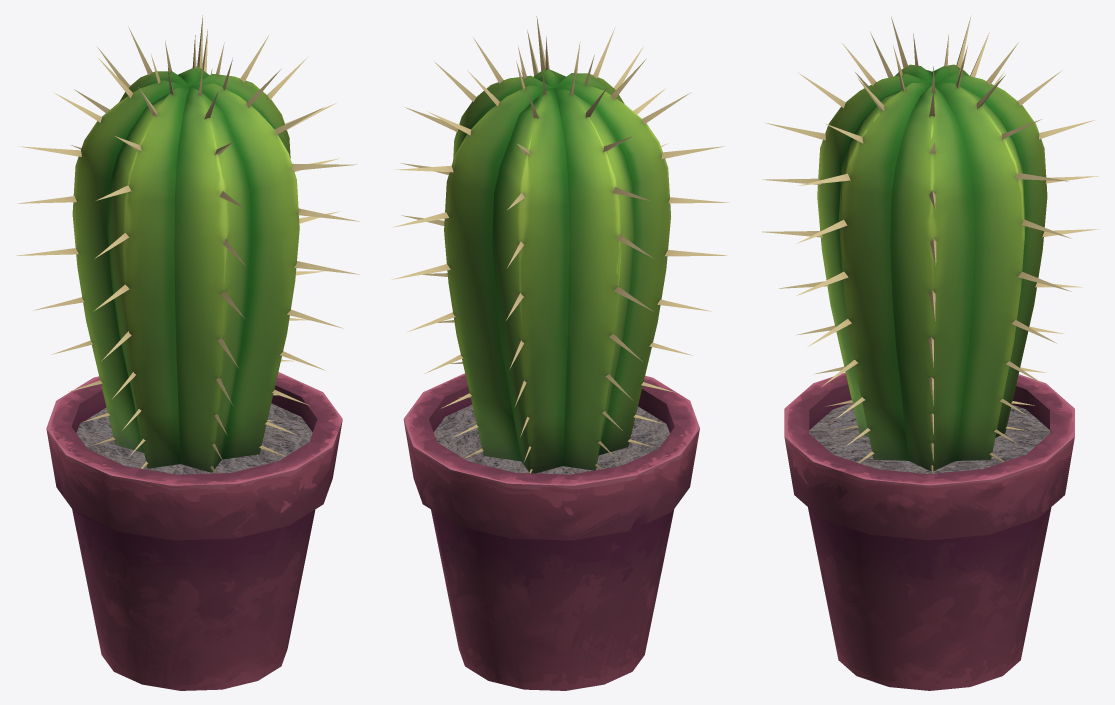
The model's file is ExampleModel.glb.
3 renders of one model, left to right at view 1: azimuth 30°, elevation 25°; view 2: azimuth 150°, elevation 25°; view 3: azimuth 270°, elevation 25°, orthographic.
Parts seen in each view (by area): view 1: defaultobject; view 2: defaultobject; view 3: defaultobject.
Boxes of the visible parts, left/top/right/bottom form: defaultobject: left=16, top=15, right=359, bottom=690; defaultobject: left=391, top=16, right=728, bottom=690; defaultobject: left=762, top=15, right=1099, bottom=690.
Size of the model in its own units: 1.01 by 2 by 1.03.
2 materials, 2 textured.
